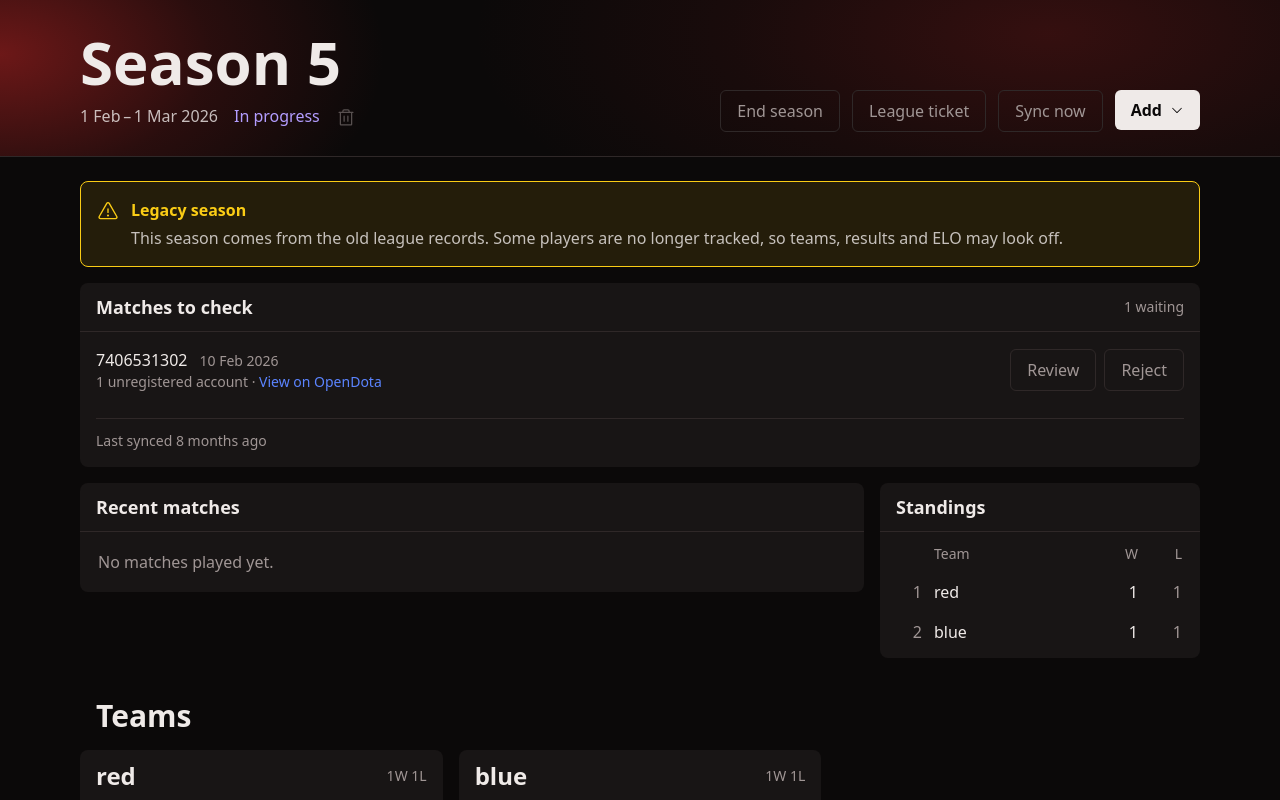
Test case: reviews a queued game in the Add match form, filled in
The width and height of the screenshot is (1280, 800).
Click the button "Review": (1053, 370) [1010,349,1096,391]
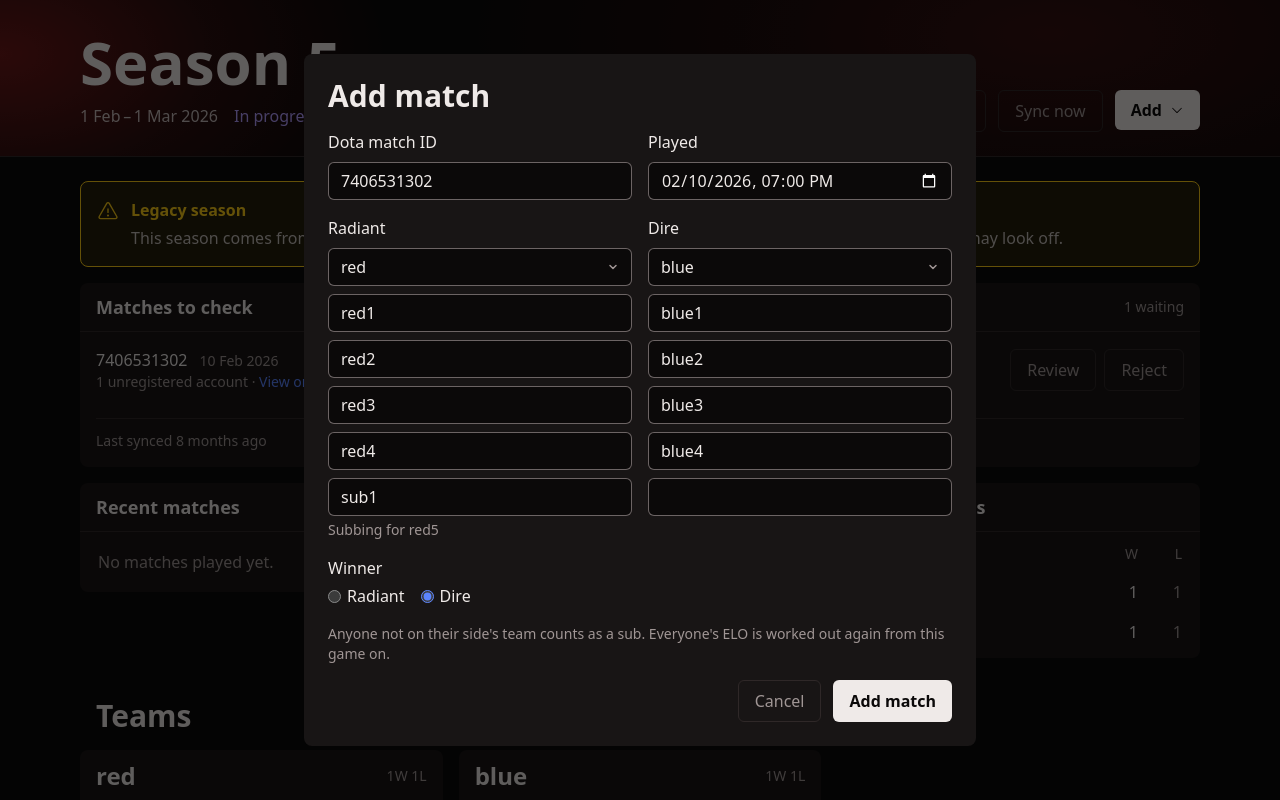
Result: the field labelled "Dota match ID" holds "7406531302" at [328,162,632,200]
Result: the field labelled "Played" holds "2026-02-10T19:00" at [648,162,952,200]
Result: the dropdown named "Radiant team" shows "red" at [328,248,632,286]
